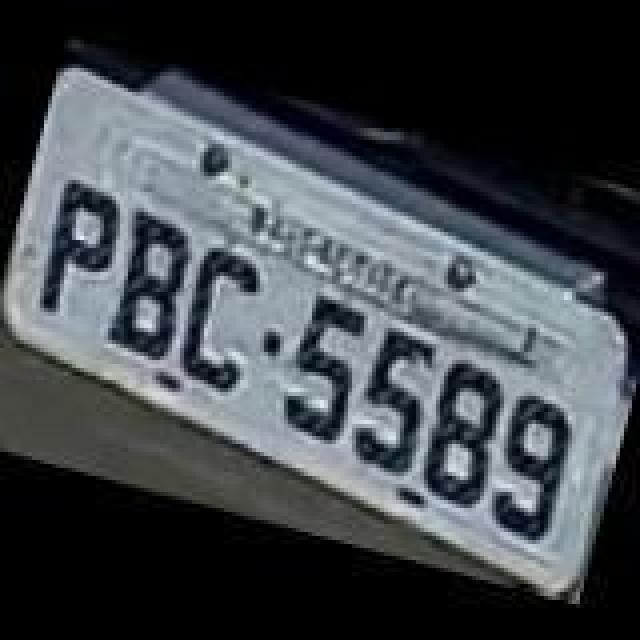5: (270, 288, 378, 448), (338, 322, 446, 478)
8: (406, 354, 514, 510)
9: (470, 382, 586, 546)
B: (100, 212, 204, 364)
C: (164, 240, 276, 400)
P: (28, 172, 132, 324)
